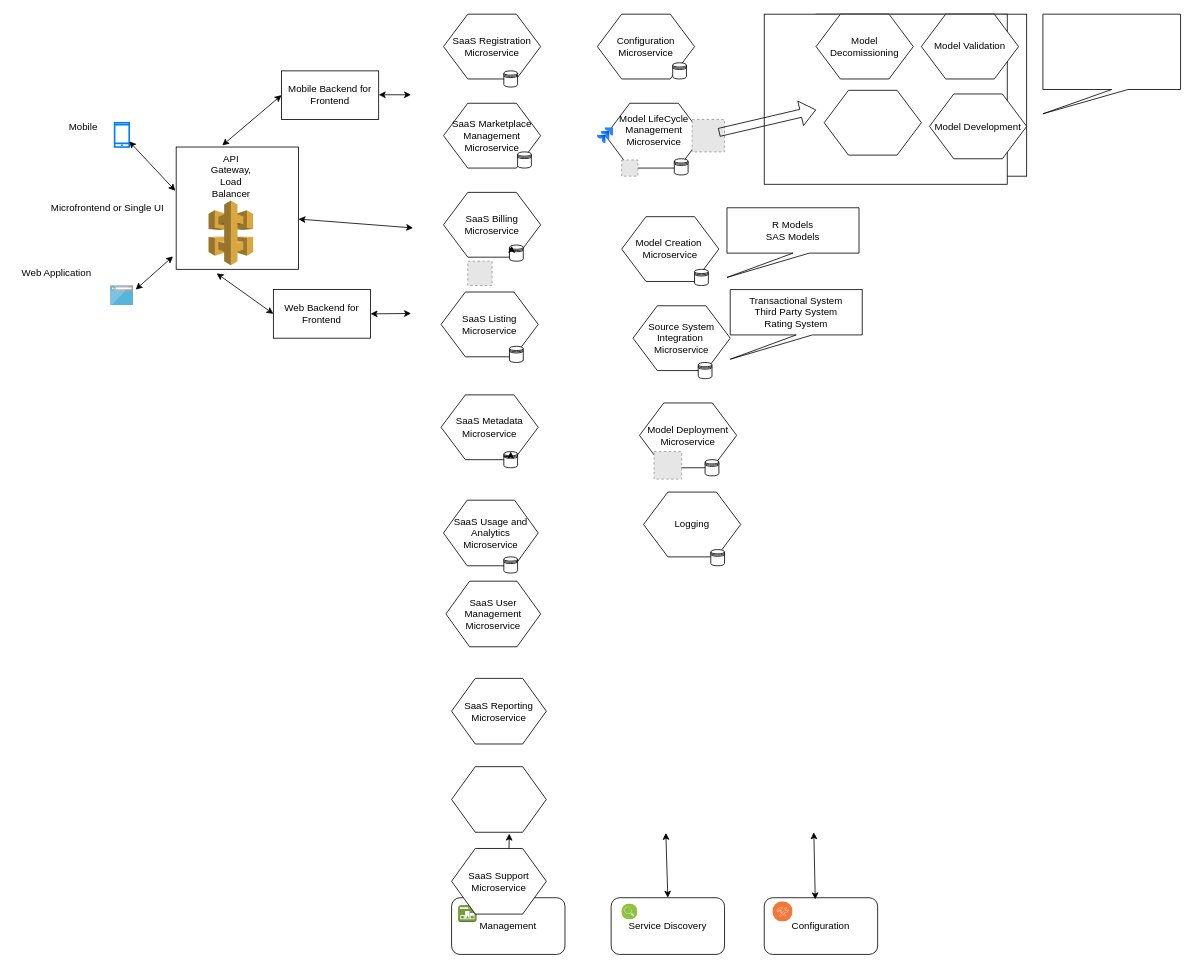
Some shapes in this 1195 by 969 pixel diagram are drawn without their labels. Grey dashed boxes stand in for pictures. Here are the shapes that lost their labels. From the top down, the centre of each, then its label:
At (x=1111, y=63): "Change Management Issue Resolution Source Management Inventory Archival".
At (x=872, y=122): "Model Commisioning".
At (x=498, y=799): "SaaS Branding Microservice".
